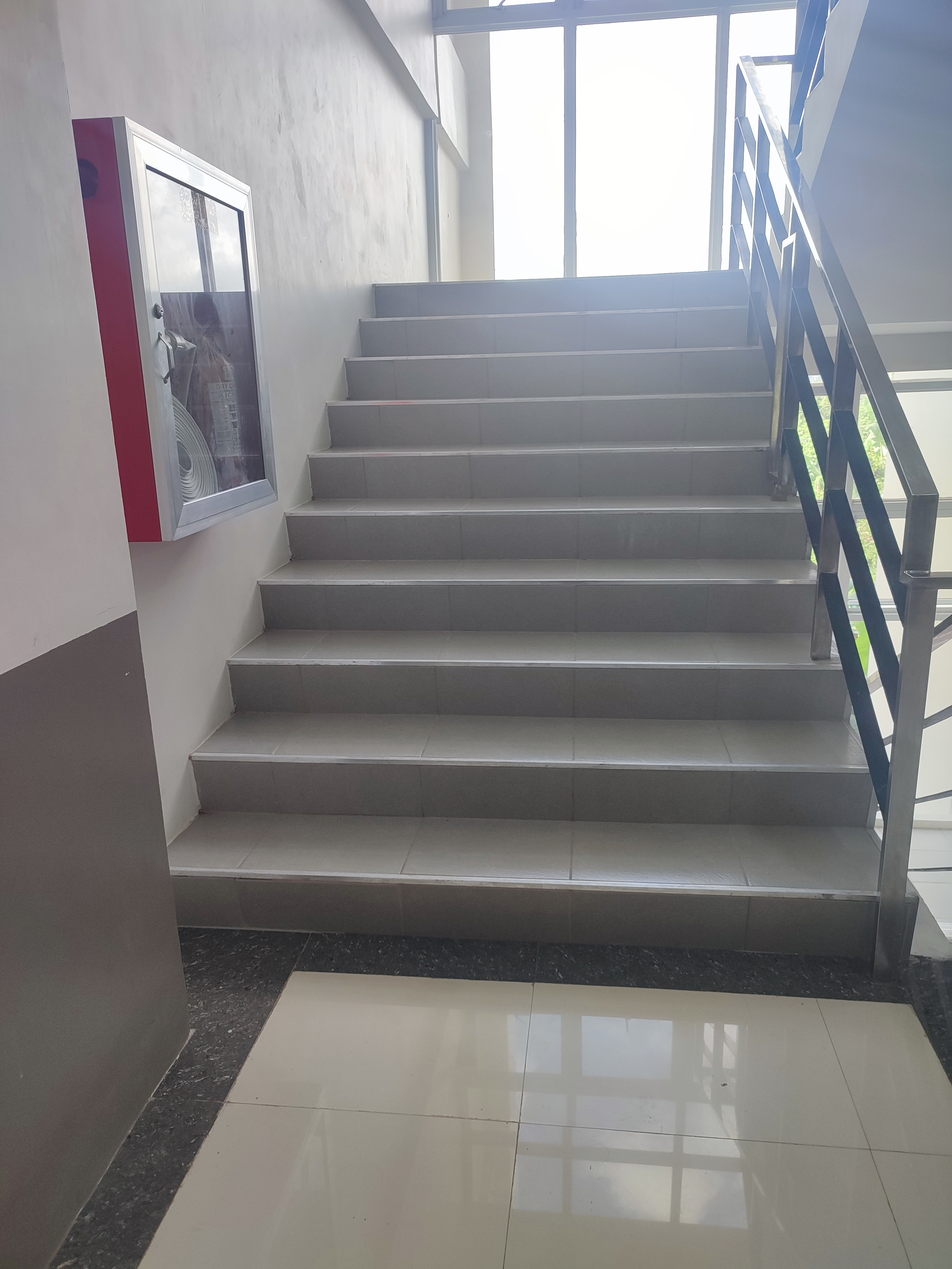Staircase: (166, 267, 916, 984)
